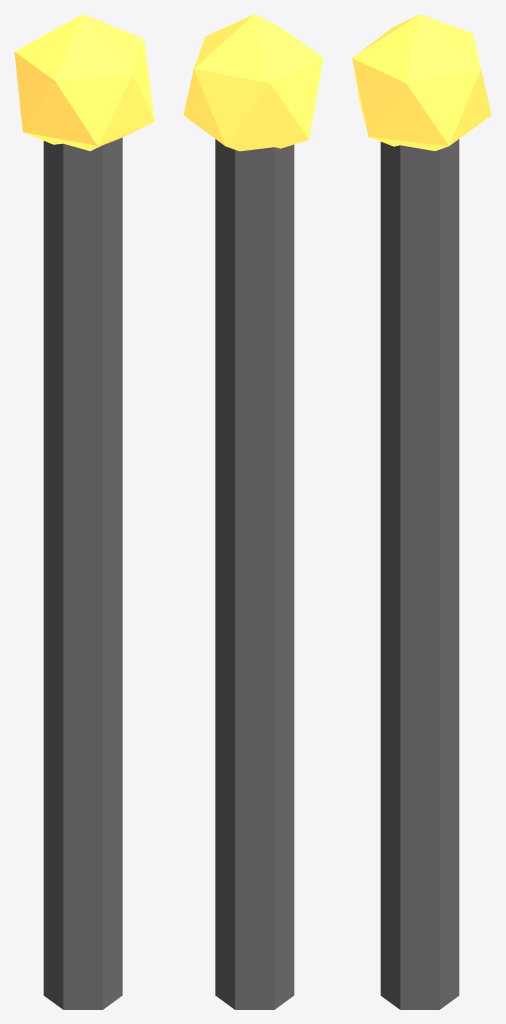
File: lever_handle.glb
The picture shows the model from 3 angles, left to right: view 1: azimuth 30°, elevation 25°; view 2: azimuth 210°, elevation 25°; view 3: azimuth 330°, elevation 25°; orthographic projection.
Parts seen in each view (by area): view 1: lever_handle_1; view 2: lever_handle_1; view 3: lever_handle_1.
Boxes of the visible parts, x1=… form: lever_handle_1: x1=14, y1=14, x2=154, y2=1009; lever_handle_1: x1=183, y1=14, x2=323, y2=1009; lever_handle_1: x1=352, y1=14, x2=491, y2=1009.
Bounding box in the file's own units: 0.1425 × 1.1 × 0.1376.
